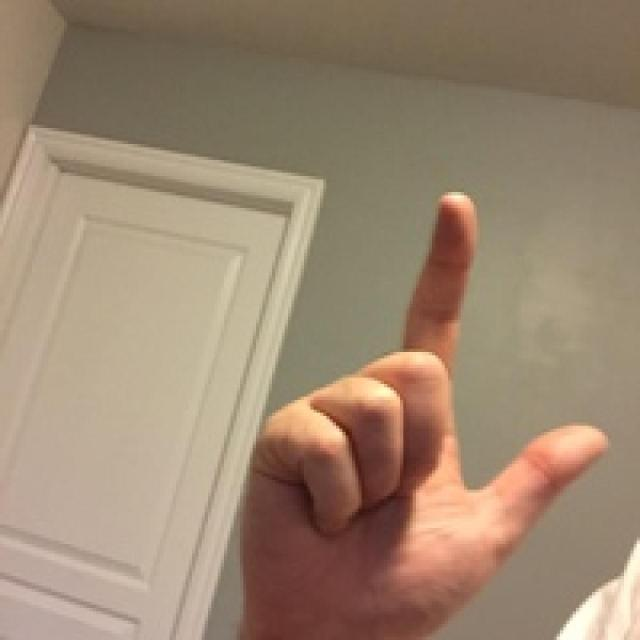L: (214, 147, 608, 640)
